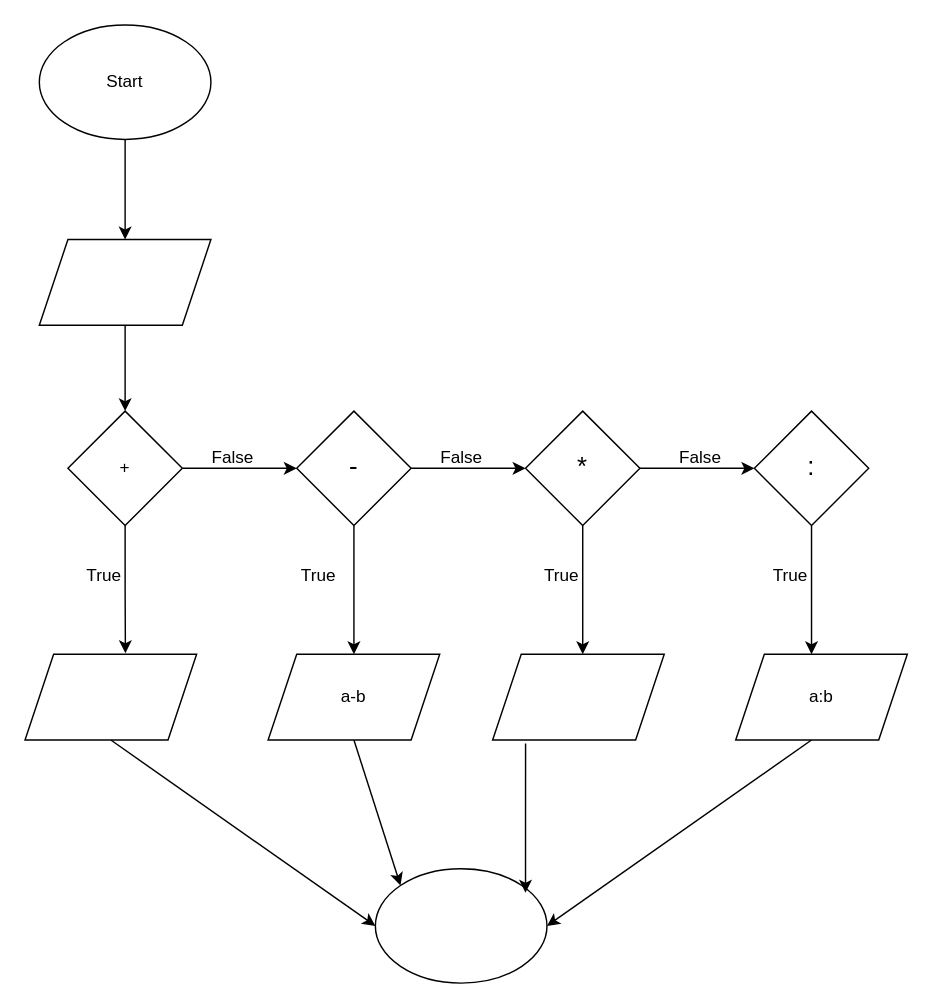
Some shapes in this 932 by 1008 pixel diagram are drawn without their labels. The shapes that lost their labels are listed below. From the top down, each one's box as (x1, y1, x2, y2) in pixels, then its label:
(38, 238, 211, 325): Nhập a,b
(24, 653, 197, 740): a+b
(491, 653, 664, 740): a*b
(374, 867, 547, 983): End
